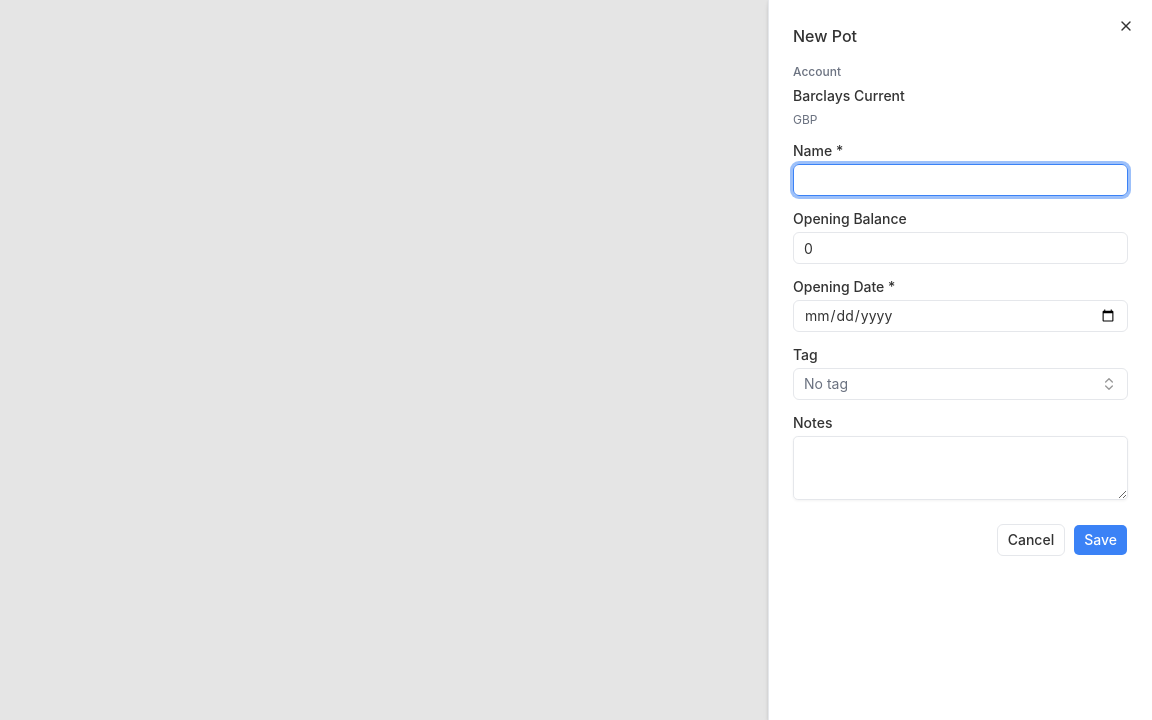
Test case: PotFormSheet — create mode › shows validation errors when submitting an empty form
Click the button "Save" at (1101, 540), box [1073,524,1128,556]
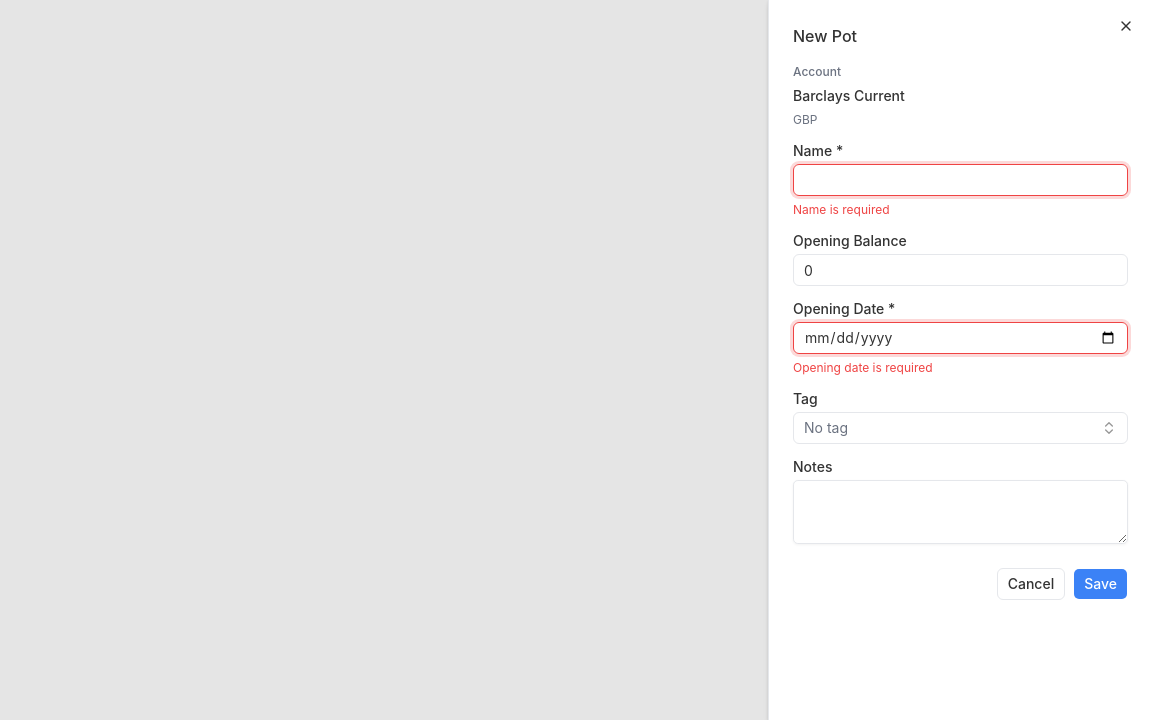
Now the text "Name is required" is shown, box [793,202,890,217]
Now the text "Opening date is required" is shown, box [793,360,932,375]
